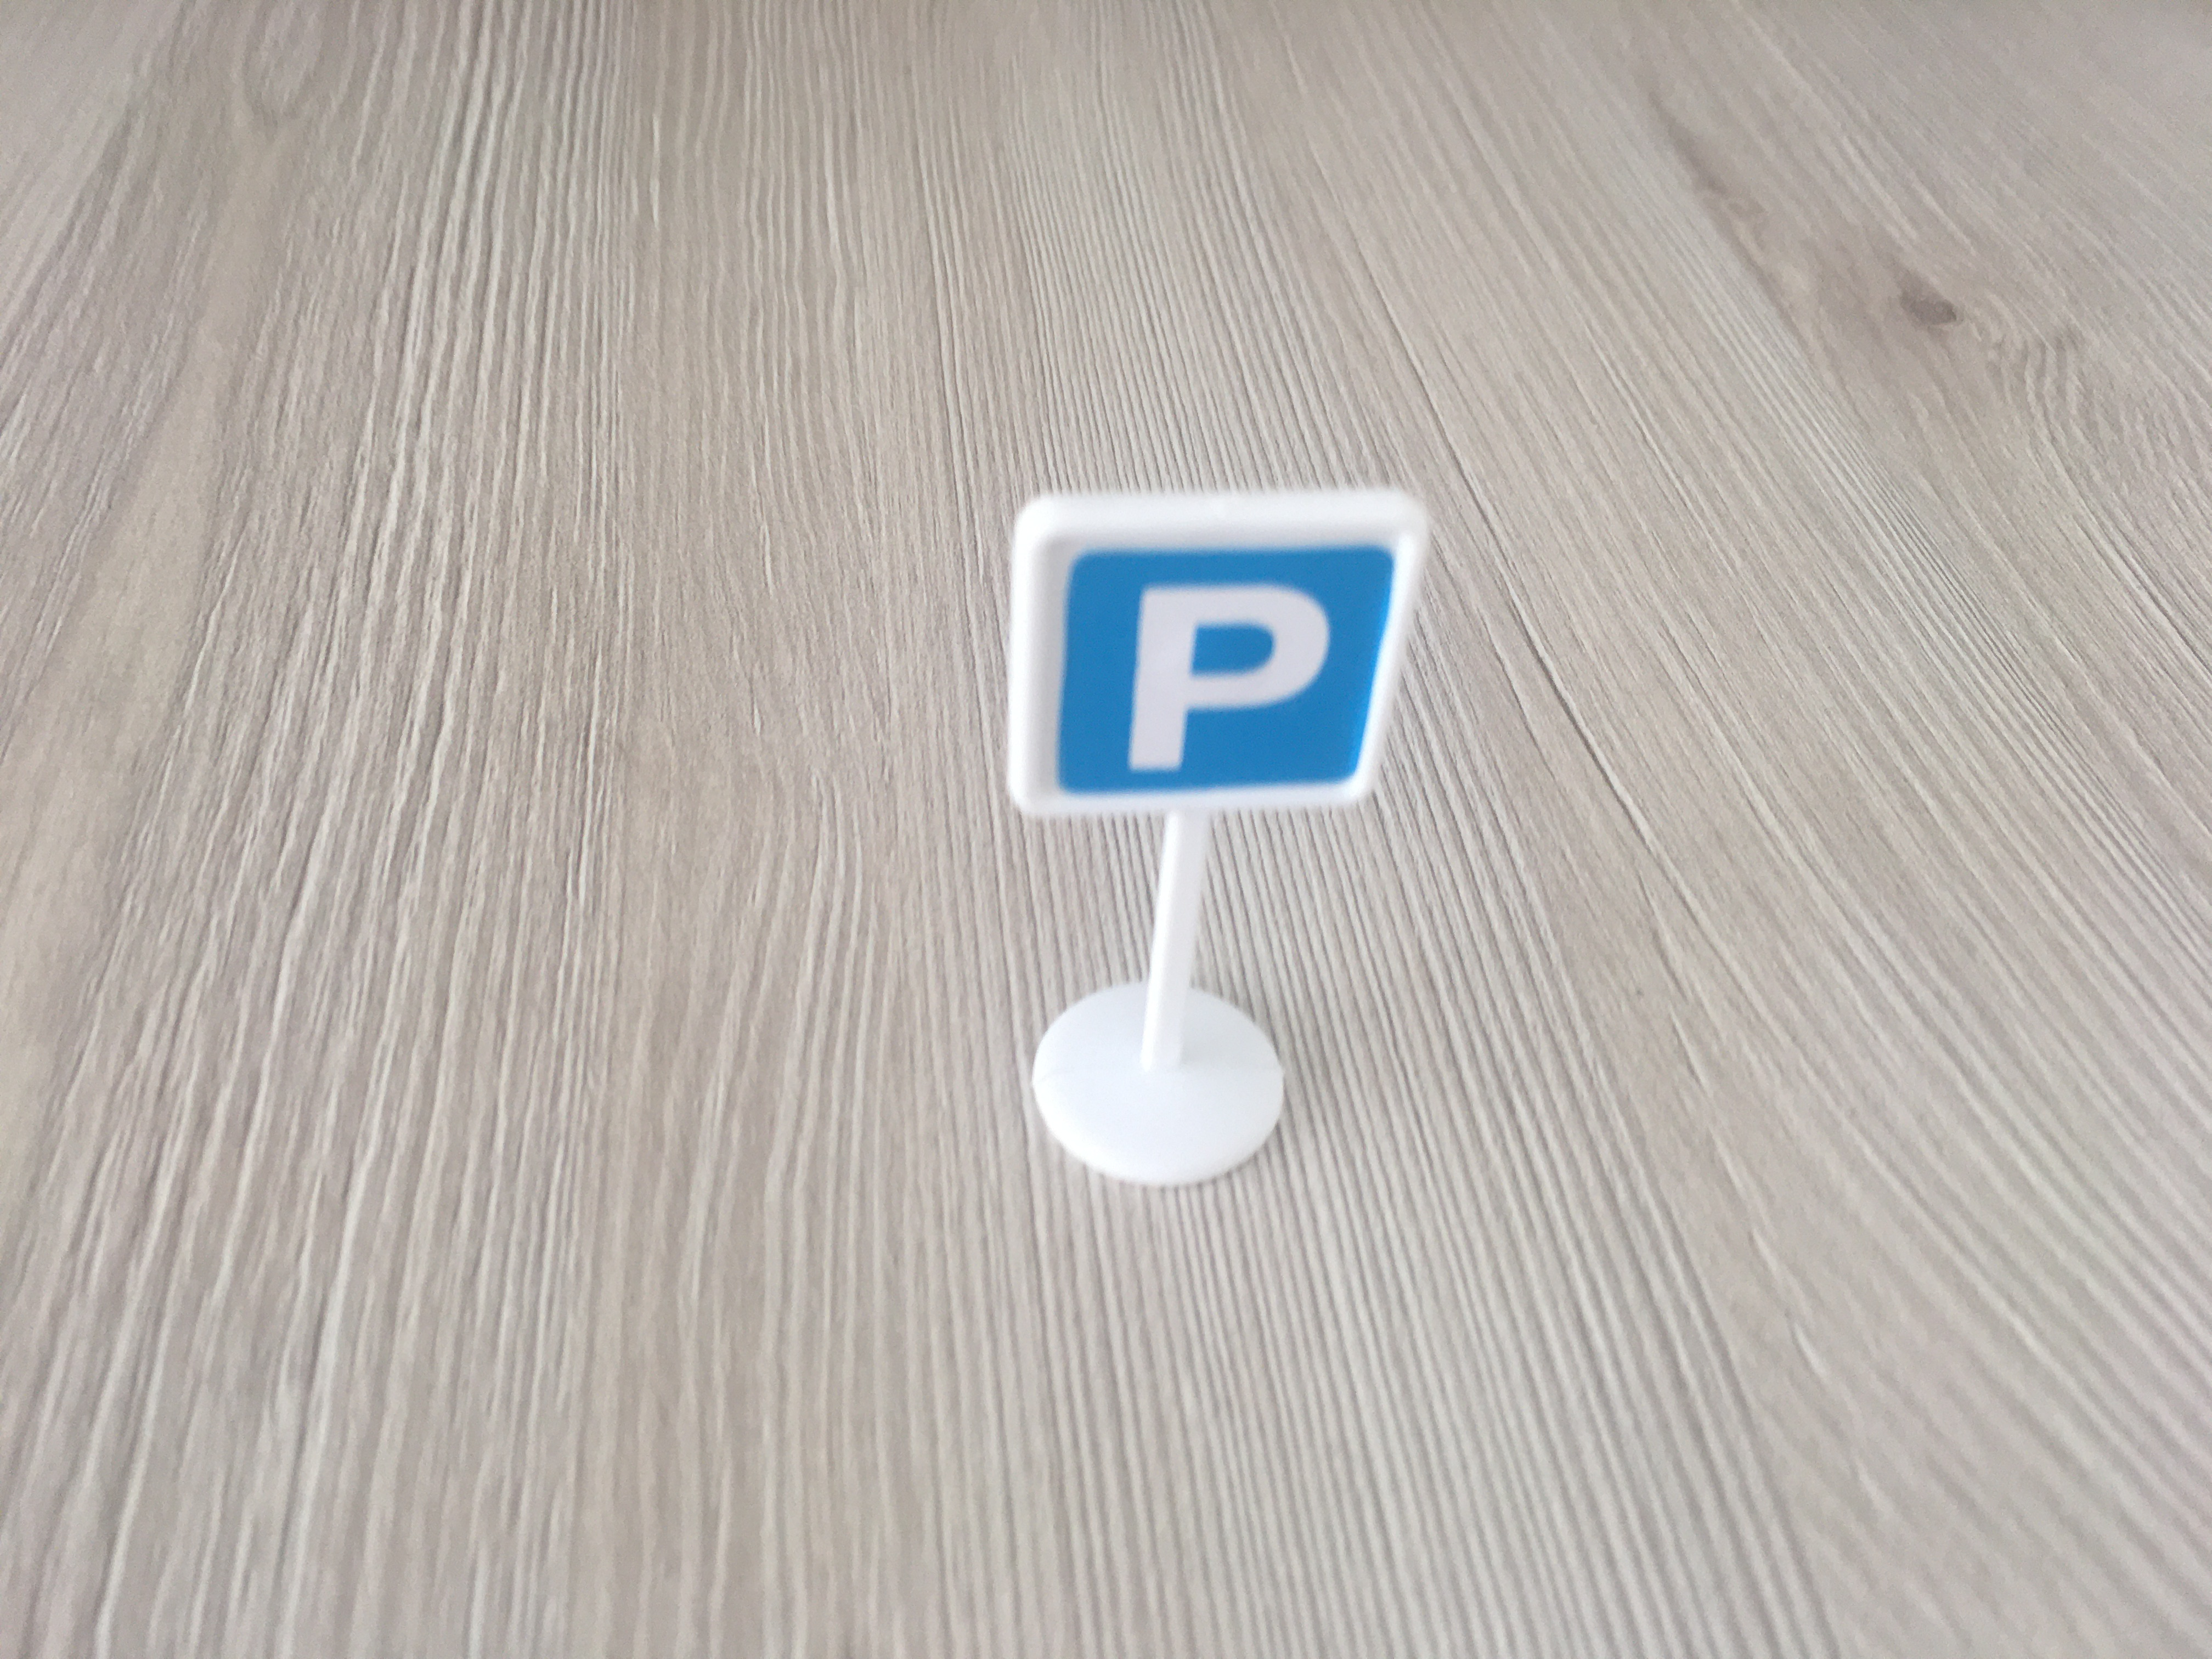parking: (1017, 500, 1409, 812)
